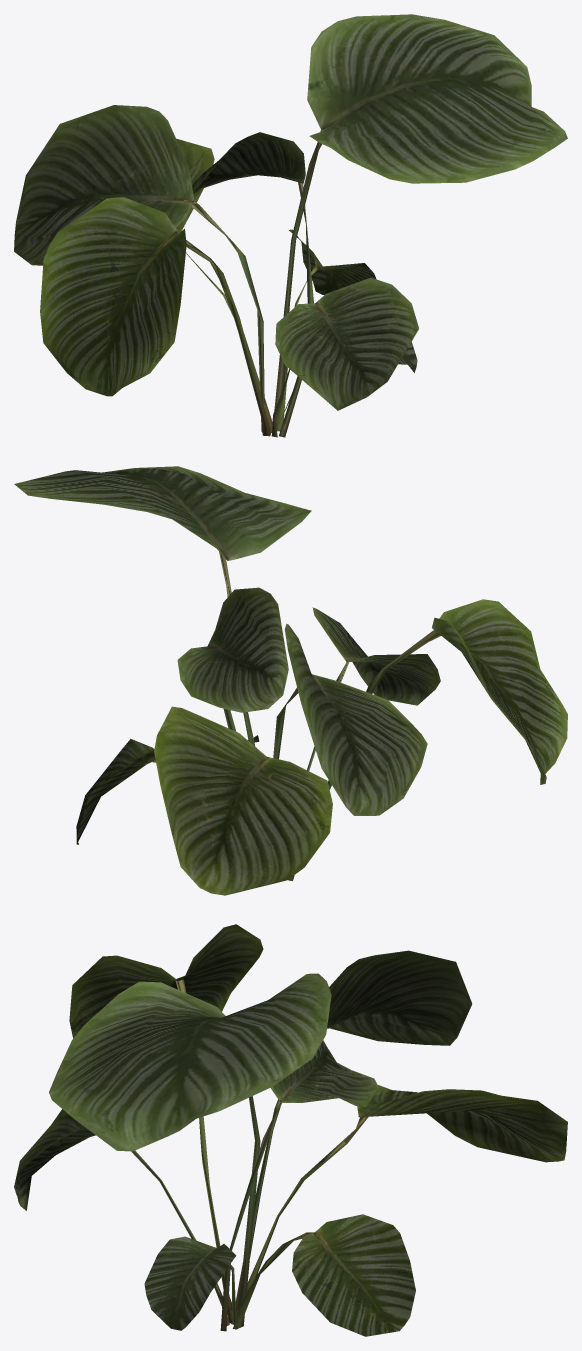
Rendered from plant_calathea.glb.
The picture shows the model from 3 angles, top to bottom: view 1: azimuth 30°, elevation 25°; view 2: azimuth 150°, elevation 25°; view 3: azimuth 270°, elevation 25°; orthographic projection. The views are drawn at different scales.
Parts seen in each view (by area): view 1: plant_calathea; view 2: plant_calathea; view 3: plant_calathea.
Boxes of the visible parts, box(x1,y1,x2,y2) form: plant_calathea: box(14, 14, 567, 437); plant_calathea: box(14, 466, 567, 895); plant_calathea: box(14, 924, 567, 1336).
Size of the model in its own units: 0.6003 by 0.4243 by 0.5252.
Materials: 1 (1 with a texture image).
